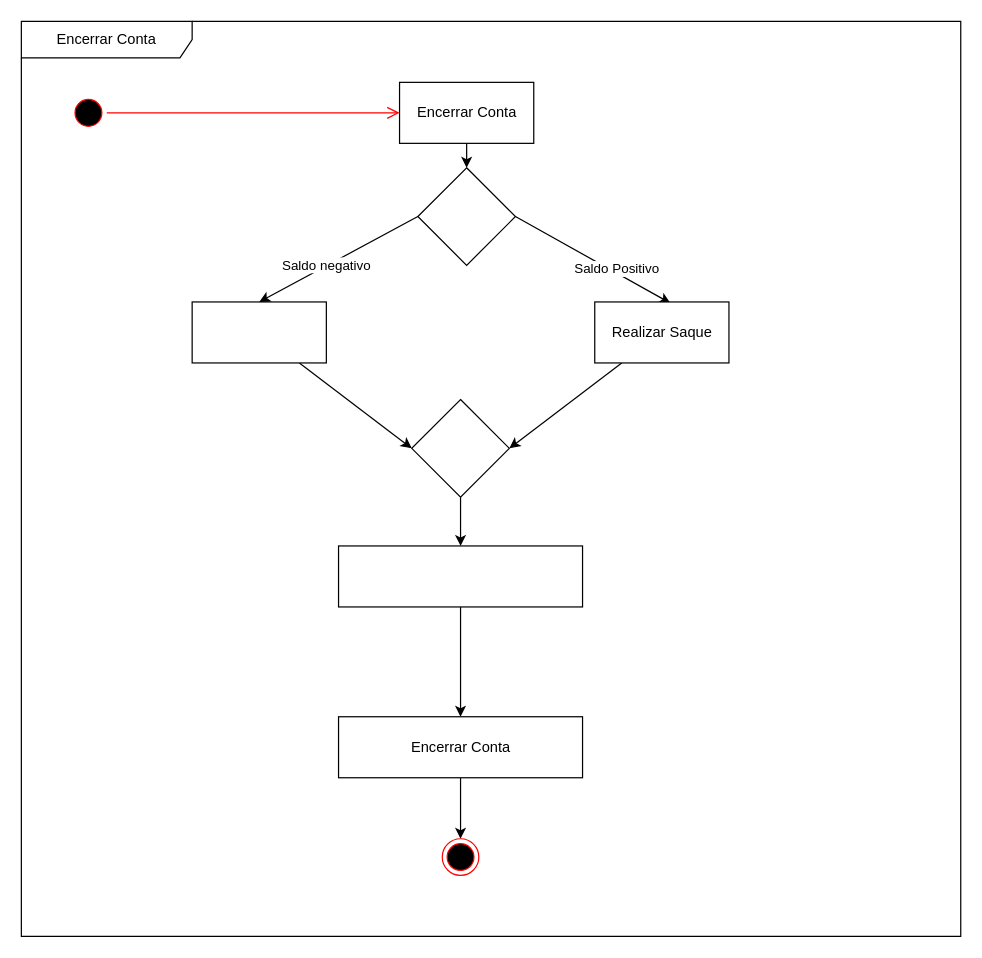
Some shapes in this 982 by 958 pixel diagram are drawn without their labels. The shapes that lost their labels are listed below. From the top down, each one's centre as x and y in pixels, then its label:
the point at 258,332: Realizar Deposito
the point at 460,576: Registrar Movimentacao Financeiraa
